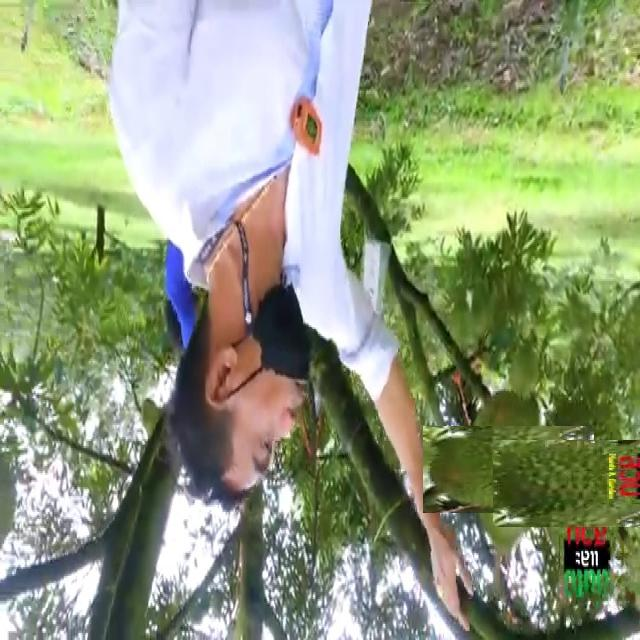durian: (443, 405, 572, 534), (515, 418, 640, 550)
